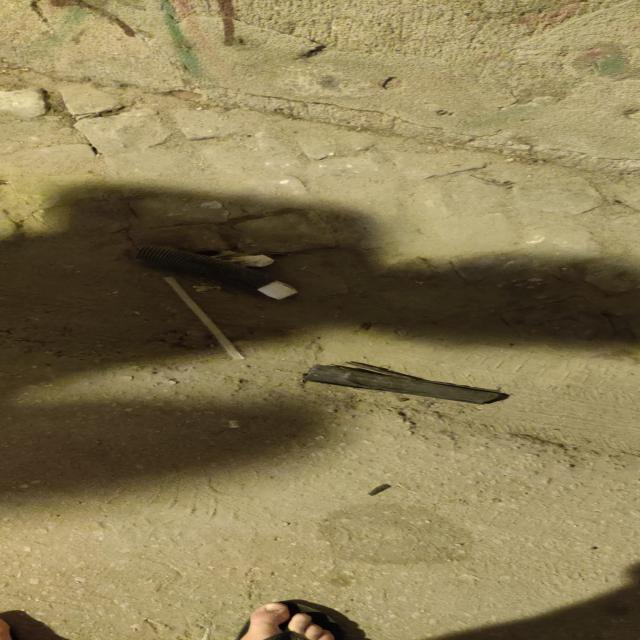litter: (287, 359, 514, 409), (158, 275, 248, 361), (132, 243, 279, 286), (256, 280, 301, 302)
